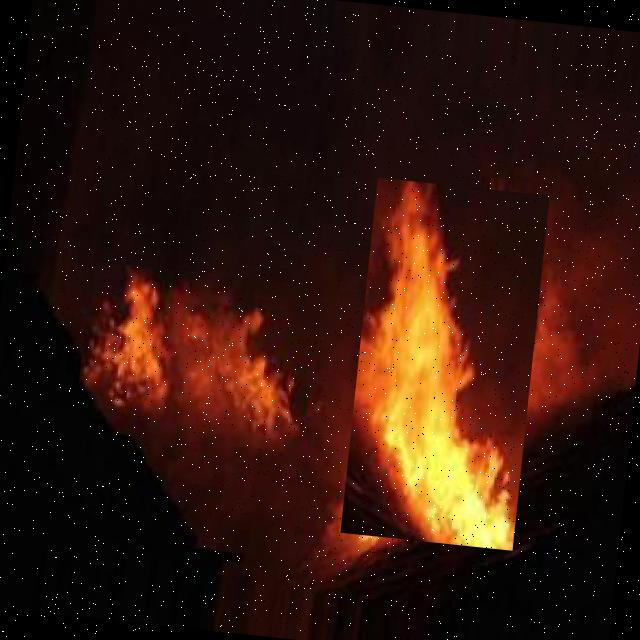fire: (340, 178, 549, 550), (73, 261, 302, 451)
